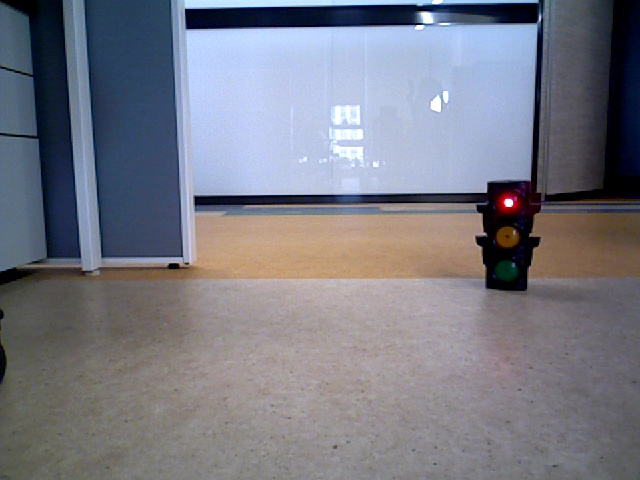red: (485, 181, 523, 287)
